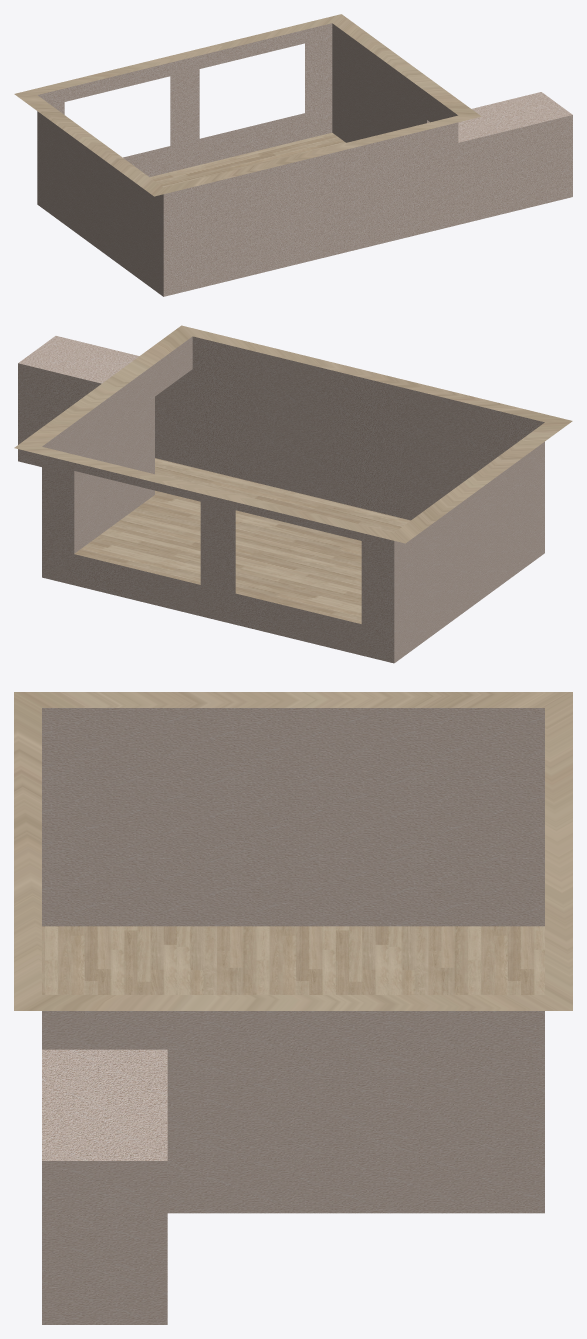
File: playerlobbywindow.fbx
3 renders of one model, top to bottom at view 1: azimuth 30°, elevation 25°; view 2: azimuth 150°, elevation 25°; view 3: azimuth 270°, elevation 25°, orthographic. The views are drawn at different scales.
Visible parts, largest first — view 1: Cube; view 2: Cube; view 3: Cube.
Part boxes in pixels (x1=…): Cube: x1=14, y1=14, x2=572, y2=296; Cube: x1=14, y1=325, x2=572, y2=663; Cube: x1=14, y1=692, x2=572, y2=1324.
Bounding box in the file's own units: 806 × 198 × 460.
2 materials, 2 textured.
